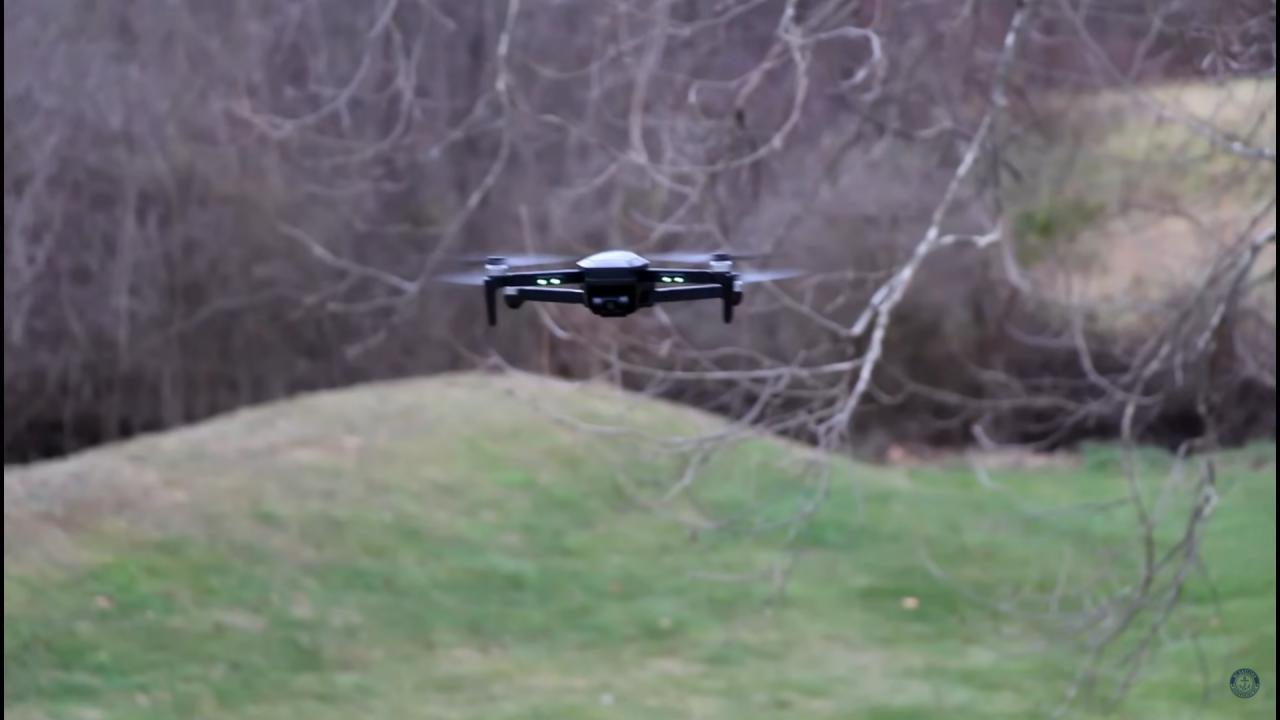Drone: (411, 225, 827, 345)
